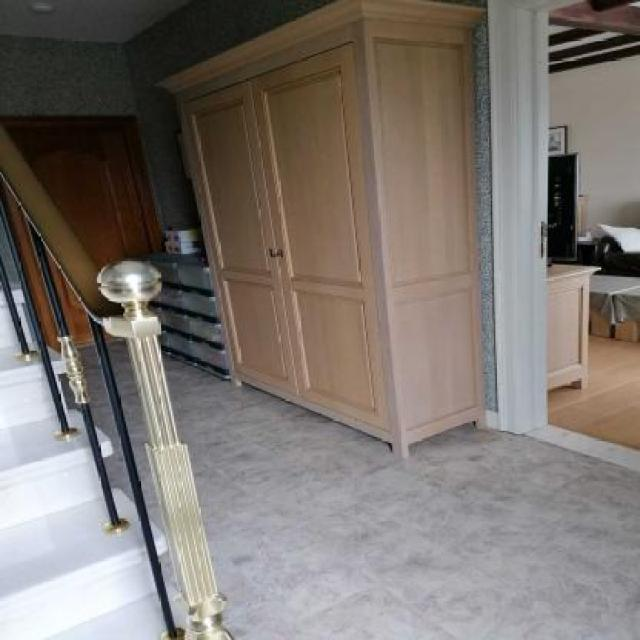floor: (157, 337, 640, 640), (105, 335, 182, 579), (547, 333, 640, 452), (77, 341, 134, 496)
